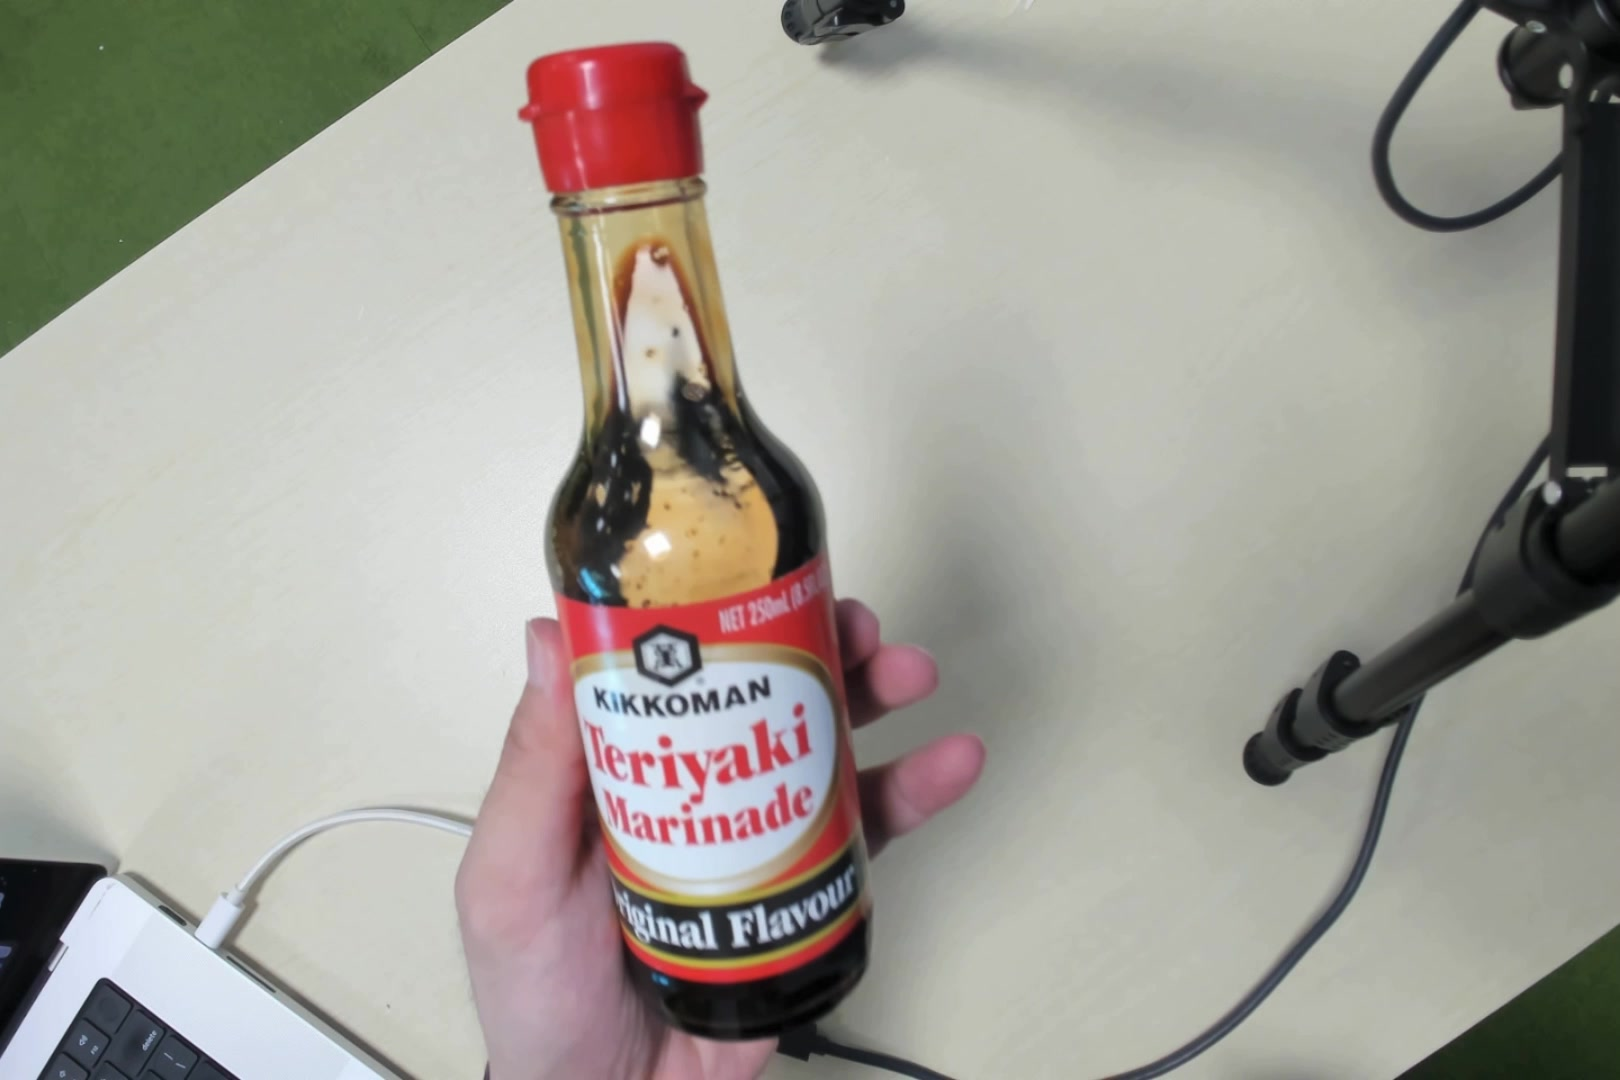OtherSauceDressingSoupbasePaste_200-299g_NonHalal_NonHealthy: (507, 45, 884, 972)
